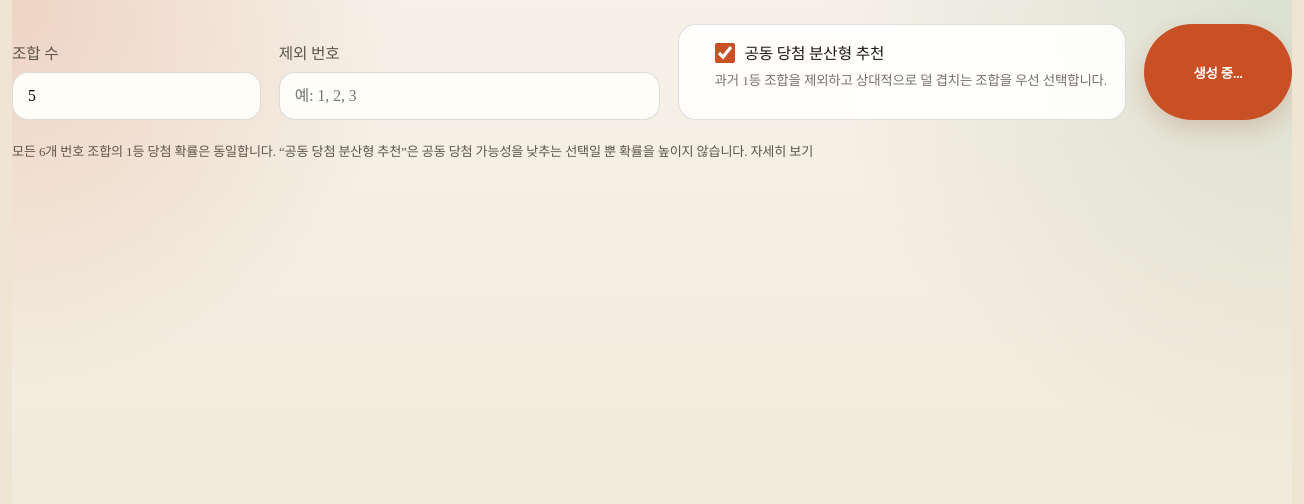
Scenario: 번호 추천 화면 › 추천을 저장한 뒤 저장 완료 상태를 보여준다
The width and height of the screenshot is (1304, 504).
Submit the form, box [12,24,1292,162]
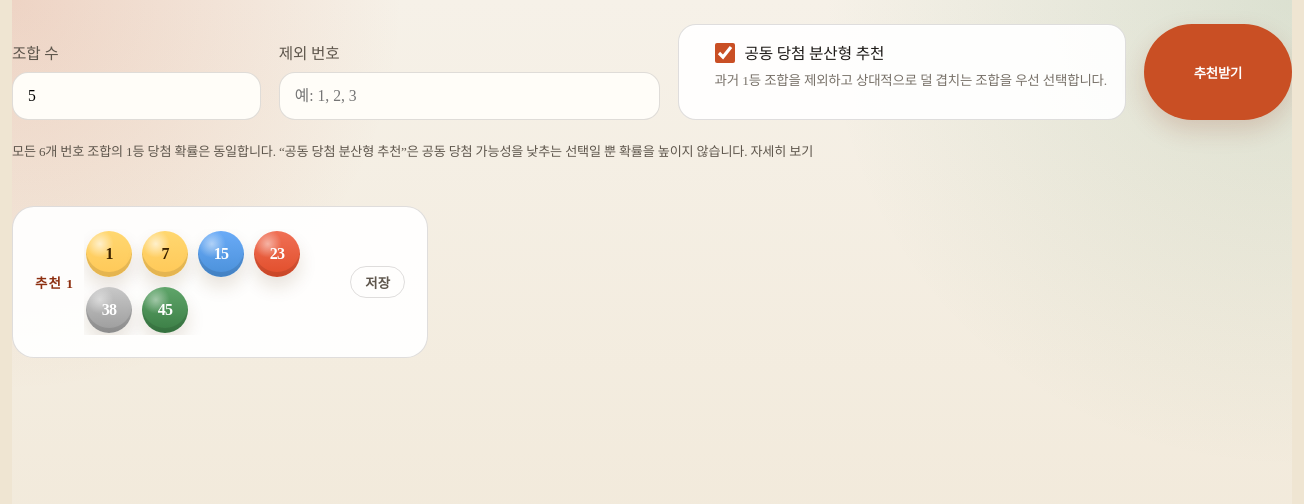
Click the button "저장": (378, 282) [350,266,405,298]
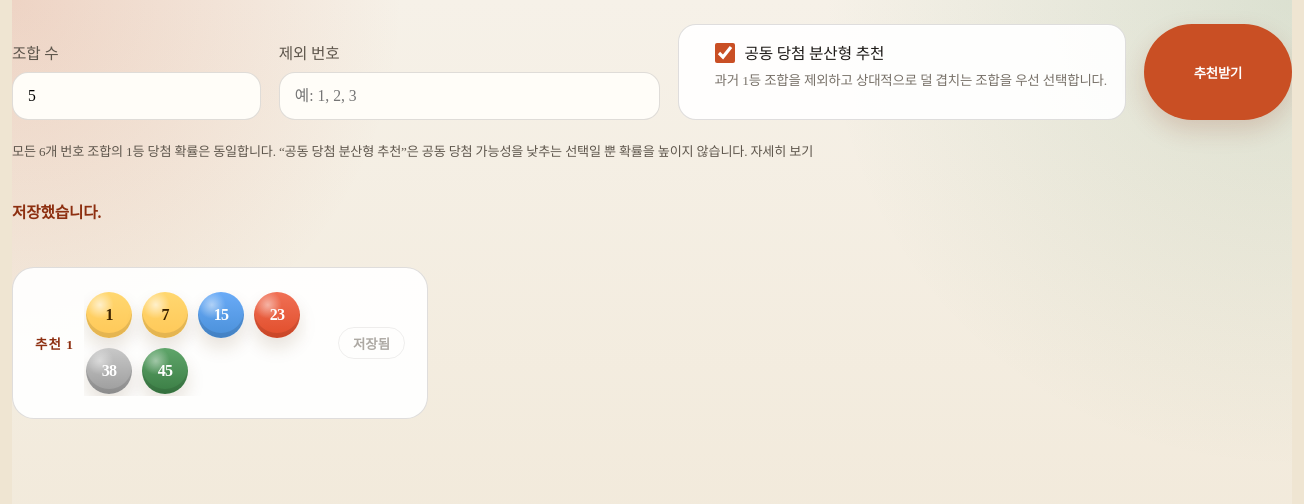
Now the button "저장됨" is disabled, box [338,327,405,359]
